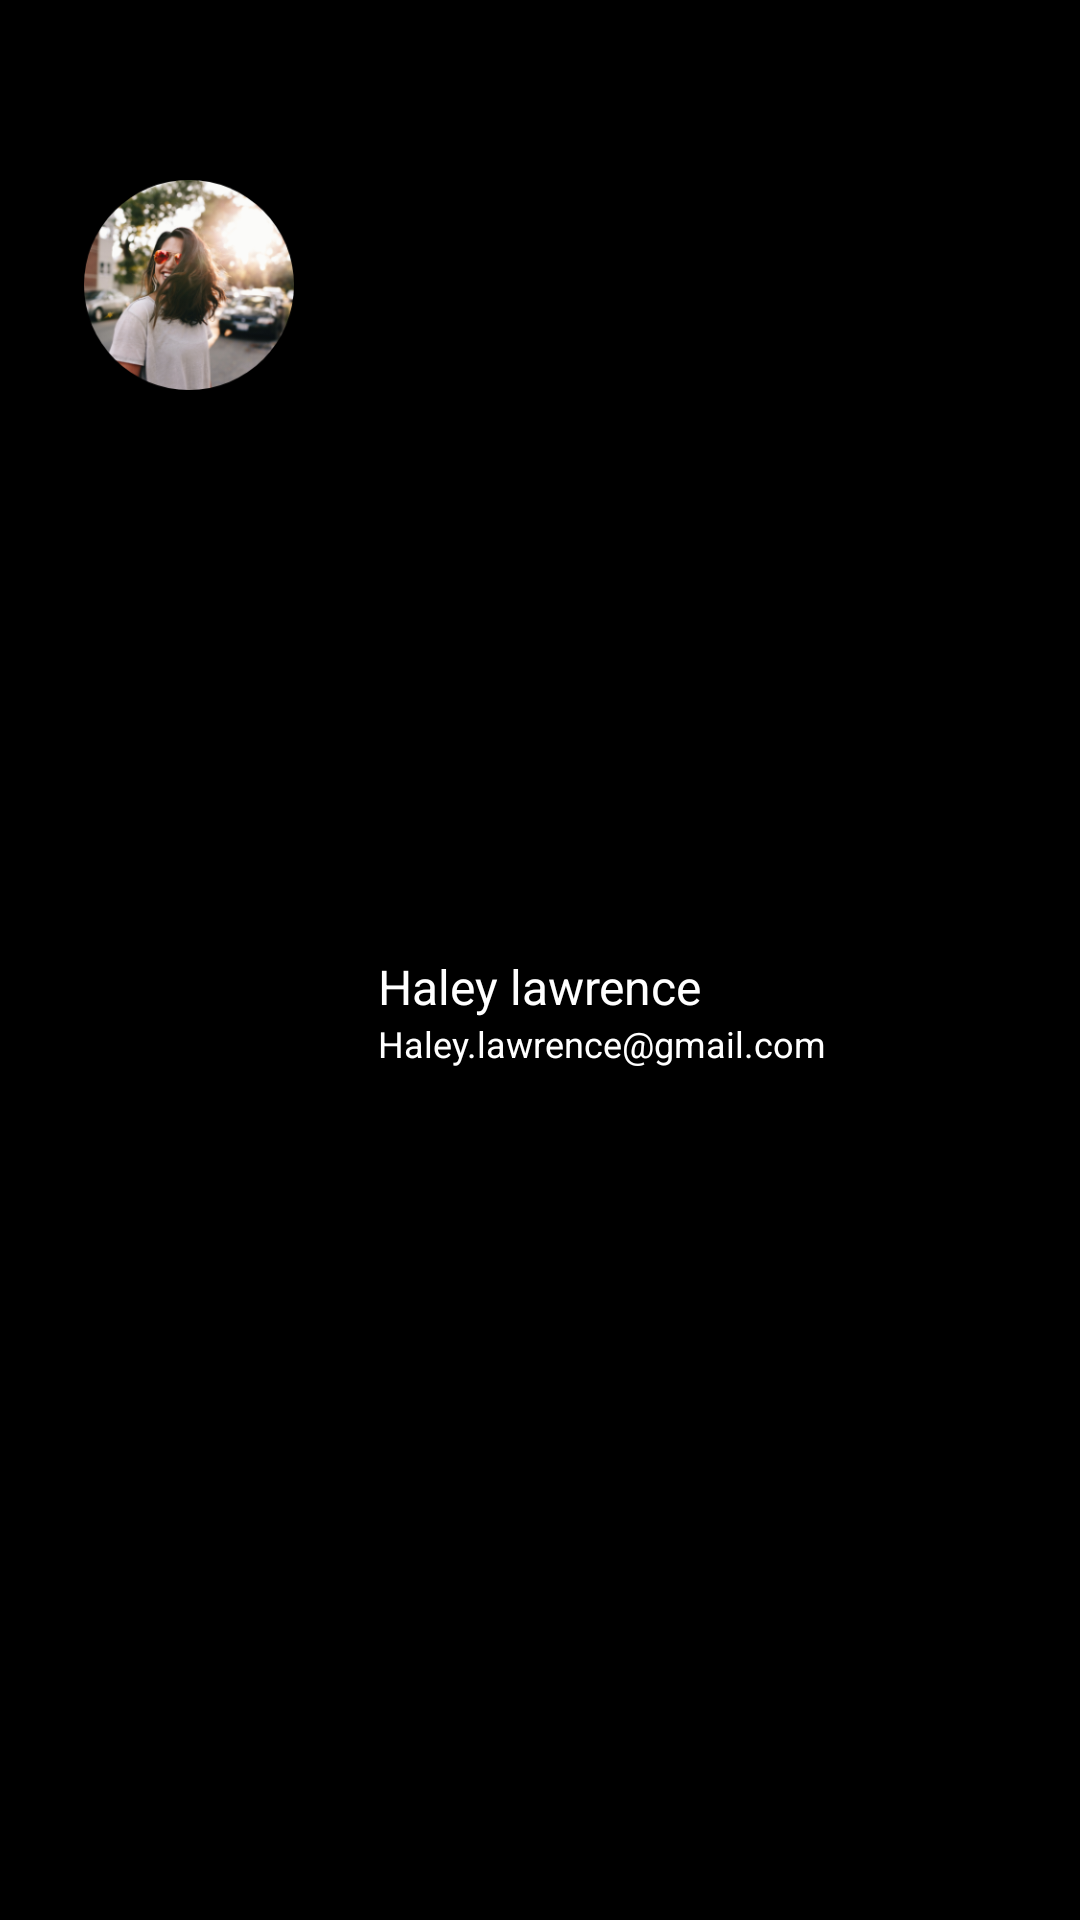

Named icons in this screenshot (1080px×1920px) and their bounding boxes, (x1, y1, x2, y2):
profile pic: (84, 180, 294, 390)
